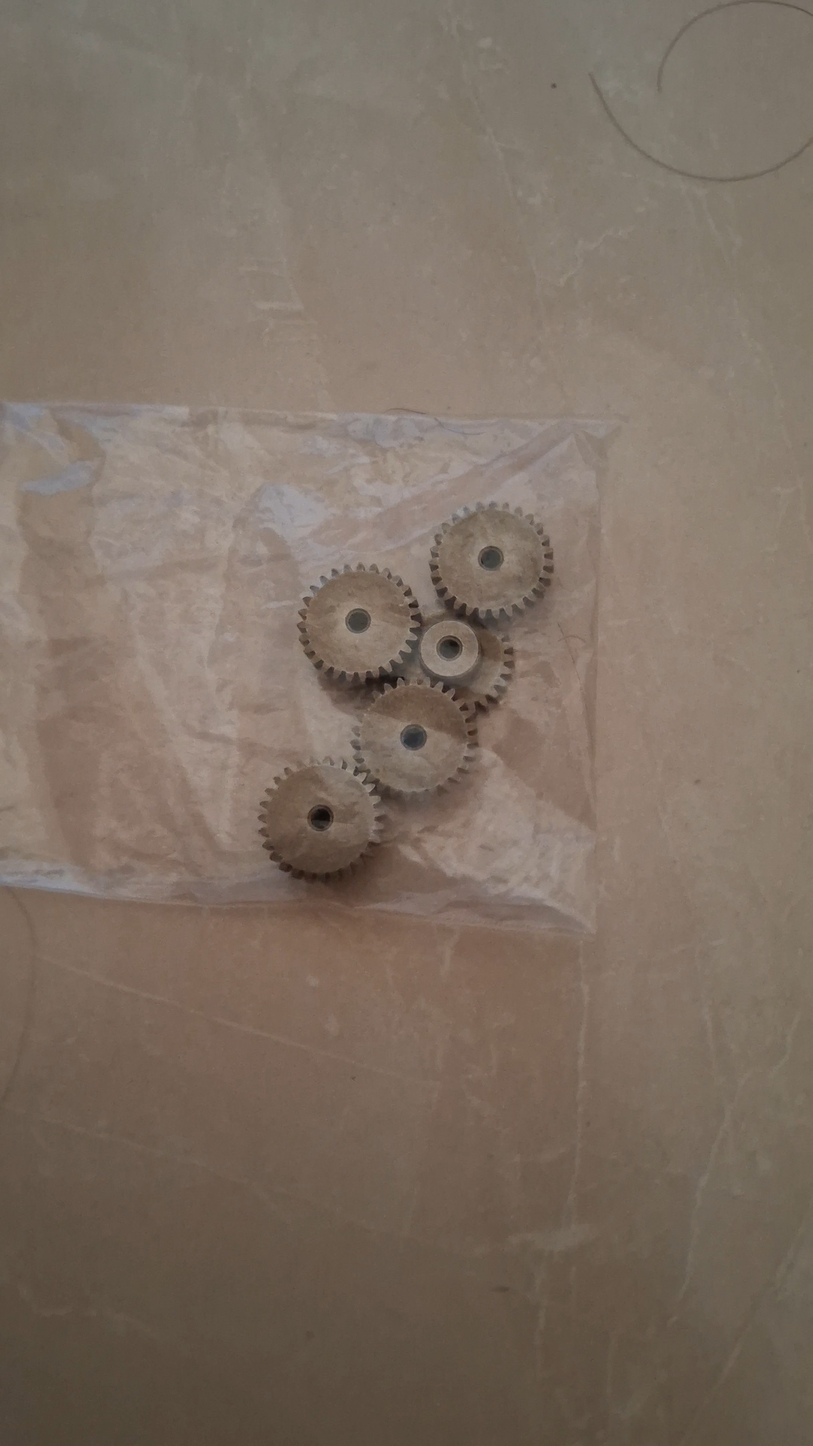spur gear: (259, 759, 382, 879), (298, 564, 420, 683), (430, 502, 553, 619), (355, 678, 476, 795), (417, 613, 514, 707)
